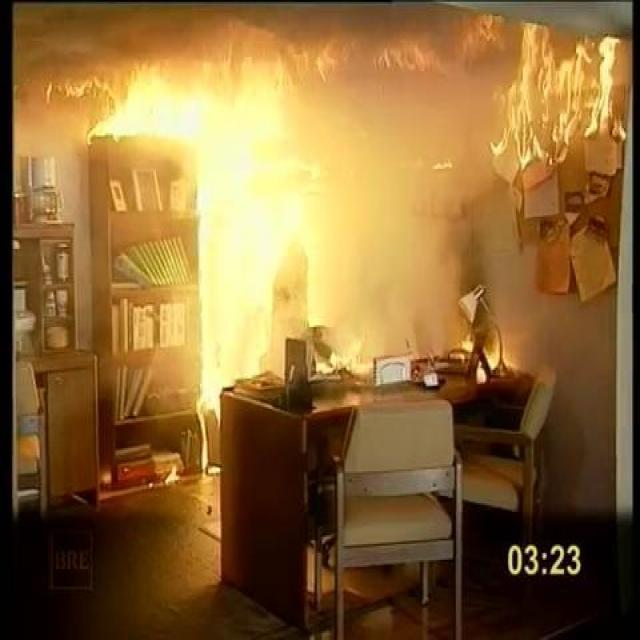Fire: (99, 59, 356, 410), (478, 32, 640, 206), (466, 339, 518, 388)
